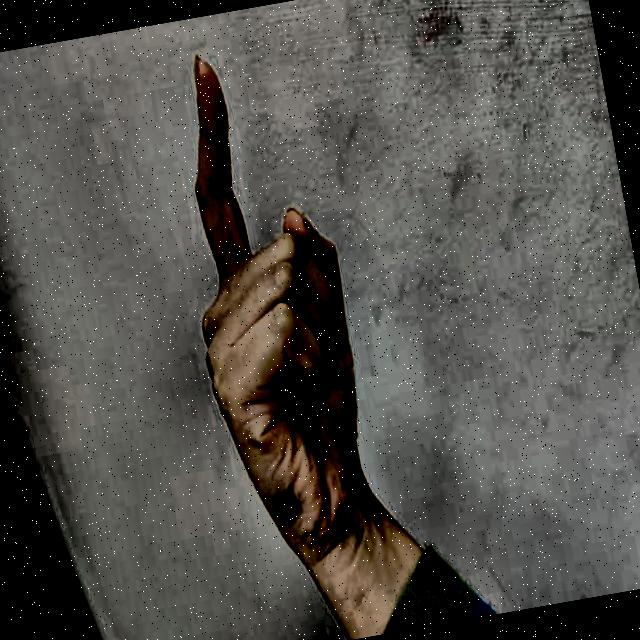U: (134, 28, 410, 567)
